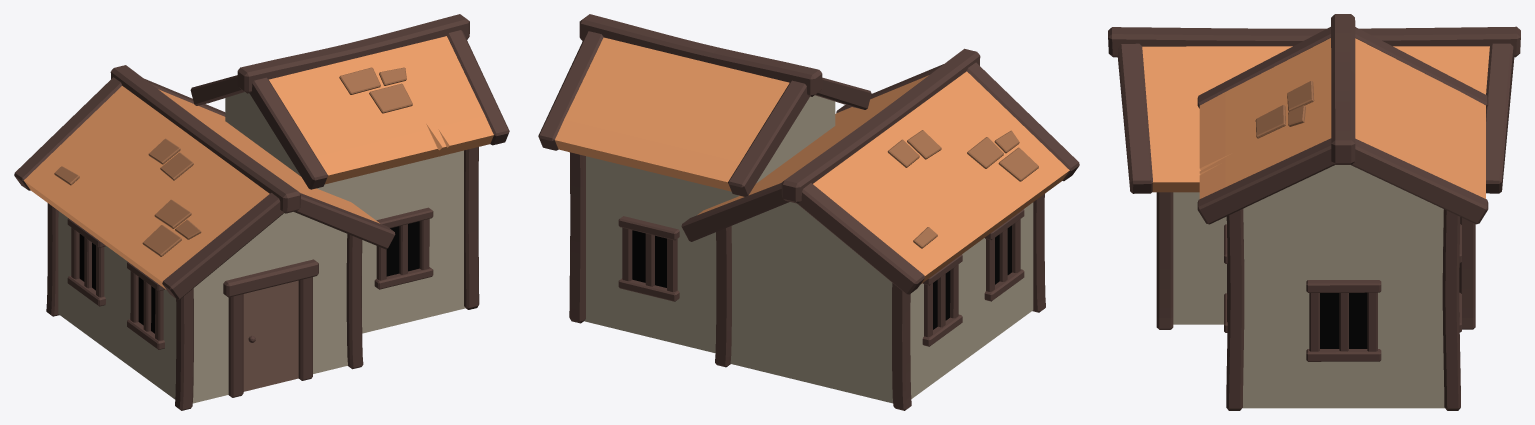
Rendered from House 2.fbx.
3 views of the same model, side by side, from view 1: azimuth 30°, elevation 25°; view 2: azimuth 150°, elevation 25°; view 3: azimuth 270°, elevation 25° (orthographic). The views are drawn at different scales.
Visible parts, largest first — view 1: House 4; view 2: House 4; view 3: House 4.
Boxes of the visible parts, x1,y1,x2,y2 form: House 4: [14, 14, 509, 410]; House 4: [538, 14, 1079, 410]; House 4: [1108, 14, 1520, 410].
Bounding box in the file's own units: 604 × 373 × 476.
